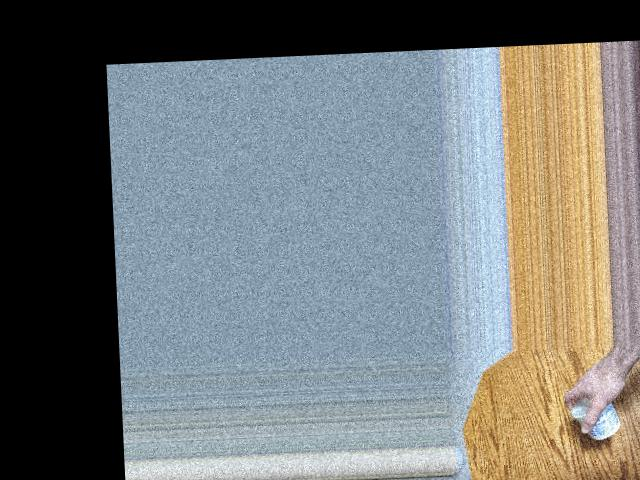cotage: (569, 397, 617, 440)
